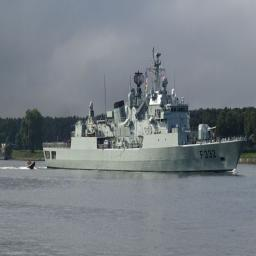Fragata: (42, 50, 247, 175)
